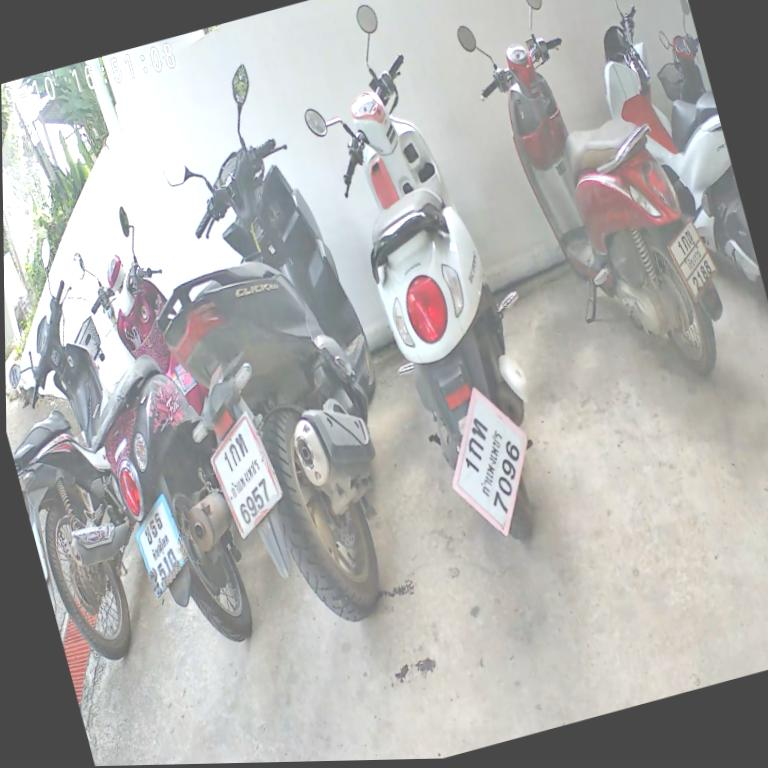license plate: (427, 372, 558, 555), (199, 407, 295, 548), (119, 483, 200, 605), (656, 204, 732, 320)
